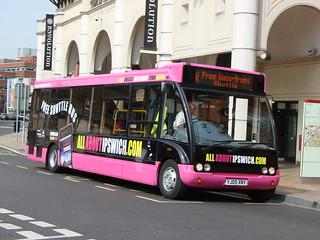bus: (29, 60, 281, 197)
